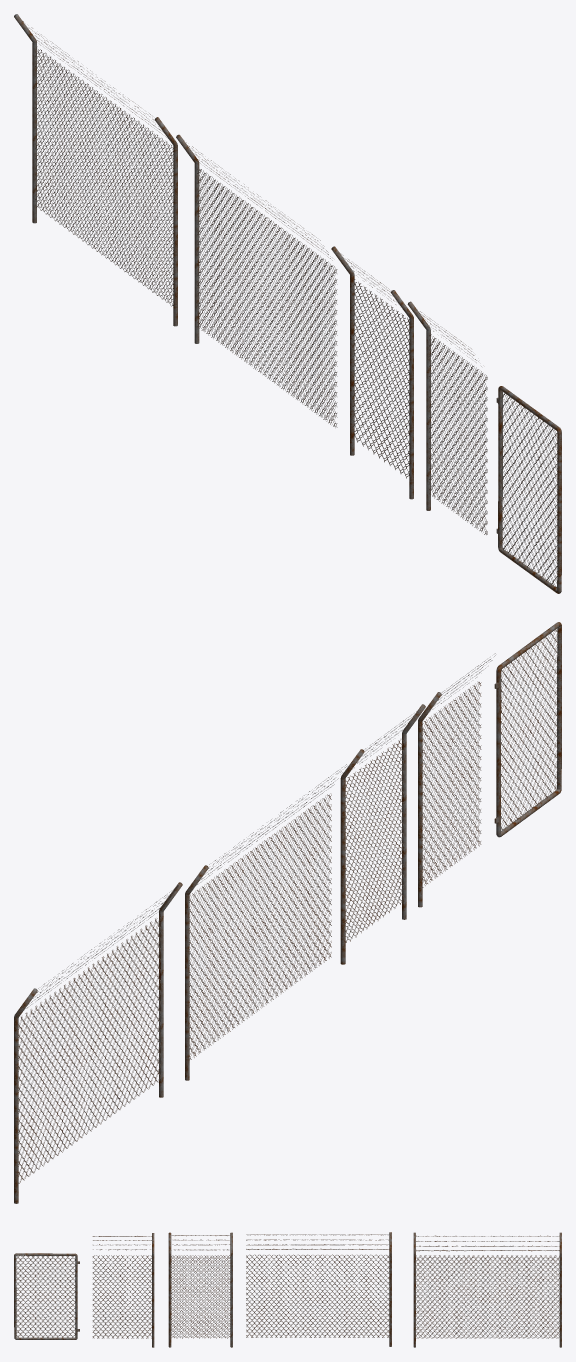
The model's file is Fence.fbx.
3 renders of one model, top to bottom at view 1: azimuth 30°, elevation 25°; view 2: azimuth 150°, elevation 25°; view 3: azimuth 270°, elevation 25°, orthographic. The views are drawn at different scales.
Parts seen in each view (by area): view 1: Cube.002, Cylinder.007, Cube.008, Cube.007, Cube.005; view 2: Cylinder.007, Cube.002, Cube.008, Cube.005, Cube.007; view 3: Cube.002, Cylinder.007, Cube.005, Cube.008, Cube.007.
Part boxes in pixels (x1=…): Cube.002: x1=14, y1=14, x2=177, y2=326; Cylinder.007: x1=176, y1=134, x2=337, y2=427; Cube.008: x1=496, y1=386, x2=561, y2=593; Cube.007: x1=407, y1=301, x2=487, y2=534; Cube.005: x1=331, y1=246, x2=413, y2=499; Cylinder.007: x1=185, y1=764, x2=346, y2=1080; Cube.002: x1=14, y1=882, x2=182, y2=1203; Cube.008: x1=494, y1=622, x2=561, y2=837; Cube.005: x1=340, y1=704, x2=425, y2=964; Cube.007: x1=418, y1=653, x2=495, y2=907; Cube.002: x1=413, y1=1232, x2=561, y2=1347; Cylinder.007: x1=246, y1=1232, x2=391, y2=1346; Cube.005: x1=168, y1=1232, x2=232, y2=1347; Cube.008: x1=14, y1=1253, x2=79, y2=1339; Cube.007: x1=92, y1=1233, x2=154, y2=1347.
Bounding box in the file's own units: 85.53 × 690 × 3115.
